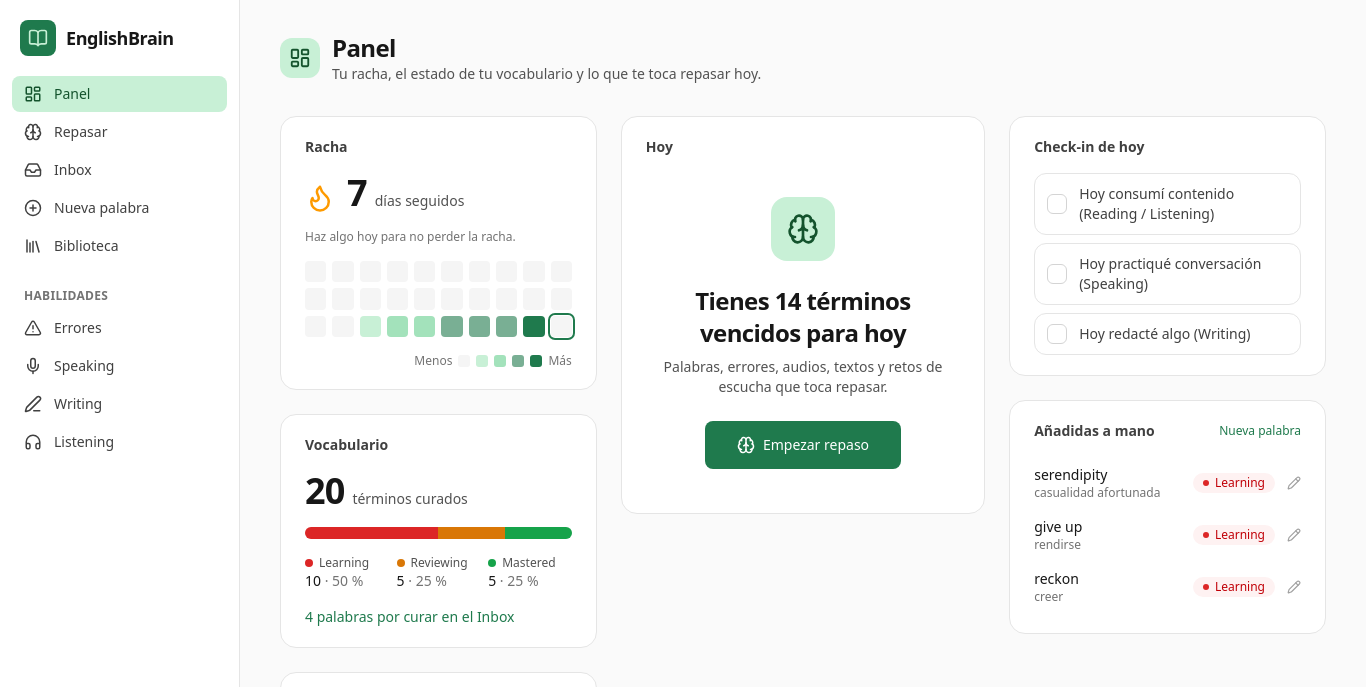
Scenario: 17.4 · Barra lateral › marcar un check-in lo guarda y enciende la celda de hoy sin recargar
The image size is (1366, 687).
Click the checkbox labelled "Hoy practiqué conversación (Speaking)": click(1168, 274) [1034,243,1301,305]
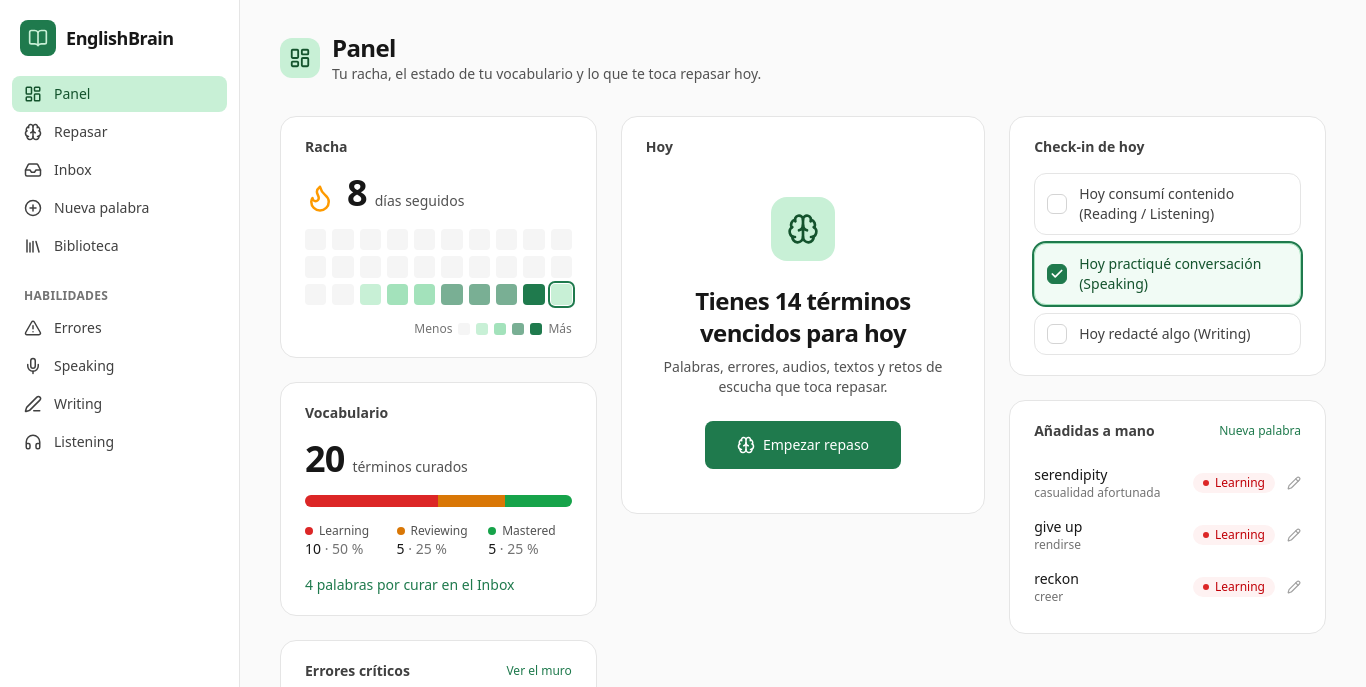
Check: the checkbox labelled "Hoy practiqué conversación (Speaking)" is checked, box [1034,243,1301,305]
Check: the list item named "12 oct (hoy): 1 actividad" is shown, box [550,284,572,305]
Check: the text with test id "streak" reads "8", box [347,168,367,217]
